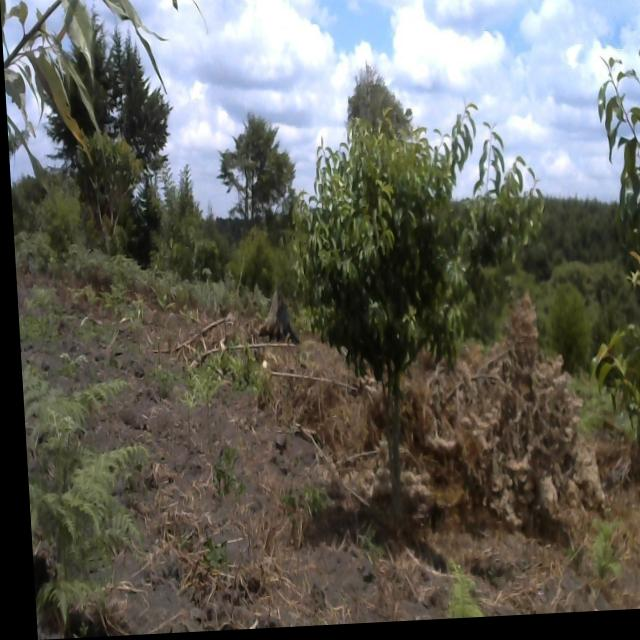Hass Avocado: (279, 97, 565, 471)
cedrus: (110, 43, 175, 168)
